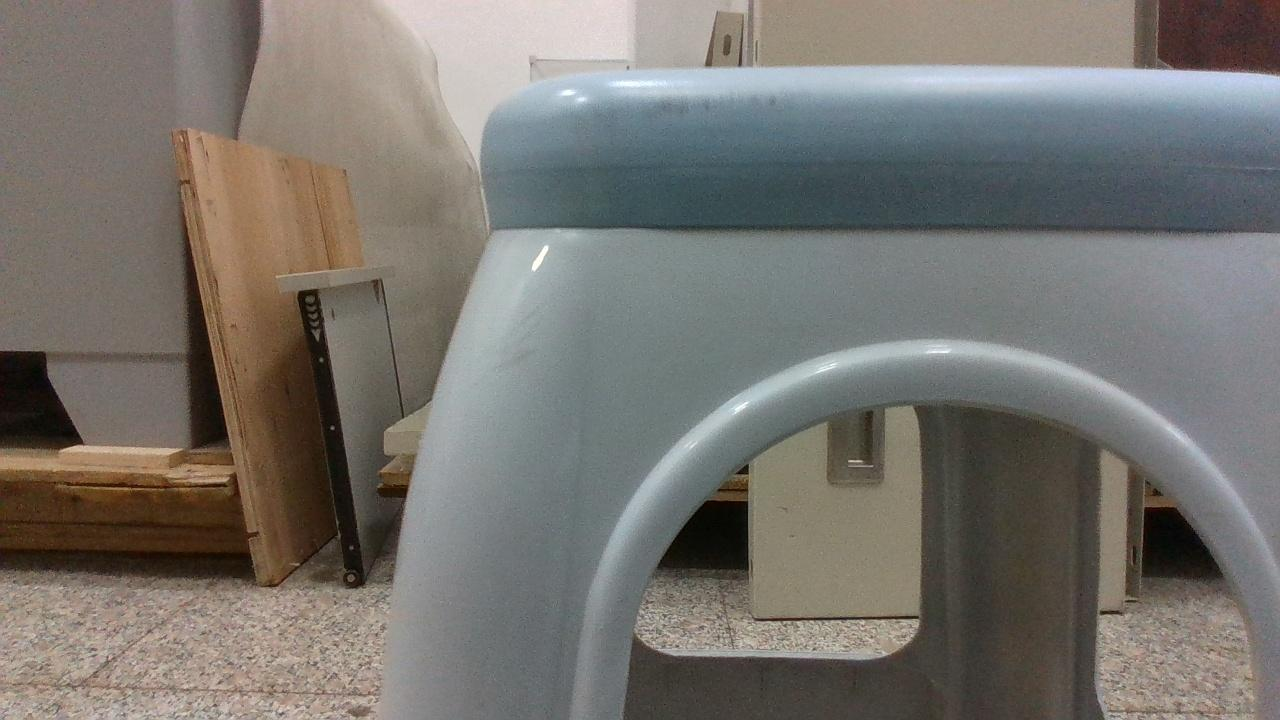stool: (382, 68, 1280, 716)
